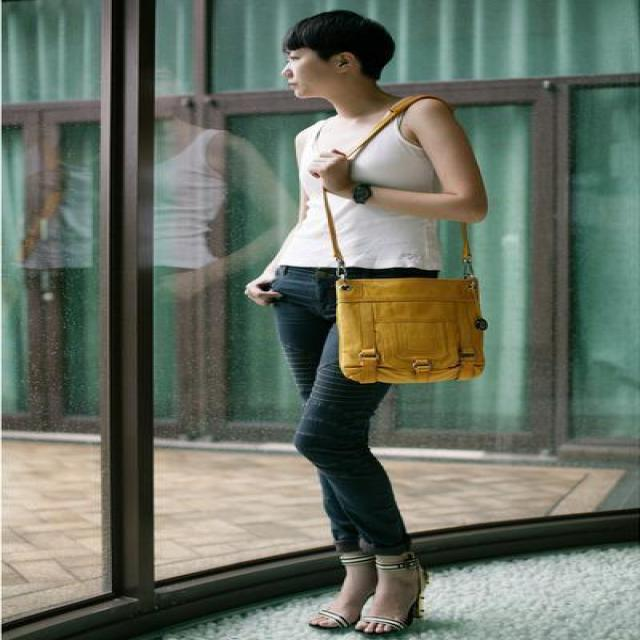bag: (329, 119, 486, 383)
pants: (257, 243, 438, 550)
shirt: (266, 115, 440, 268)
shoe: (299, 589, 402, 639)
